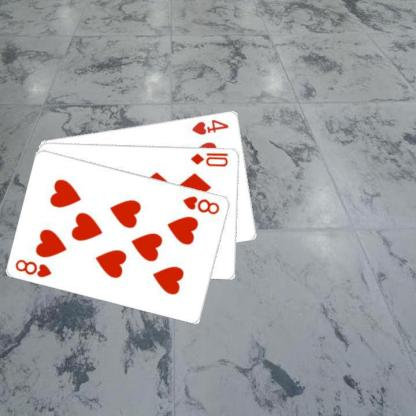10D: (188, 150, 230, 167)
4H: (189, 116, 230, 136)
8H: (180, 193, 221, 215), (13, 256, 53, 278)
